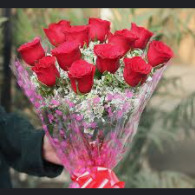RedRose: (32, 54, 61, 88), (68, 61, 95, 97), (123, 54, 153, 86), (50, 42, 83, 71), (94, 43, 121, 77), (16, 38, 45, 65), (87, 16, 112, 47), (146, 40, 173, 68), (63, 24, 91, 50), (109, 27, 134, 56), (129, 24, 153, 52), (43, 20, 69, 45)
